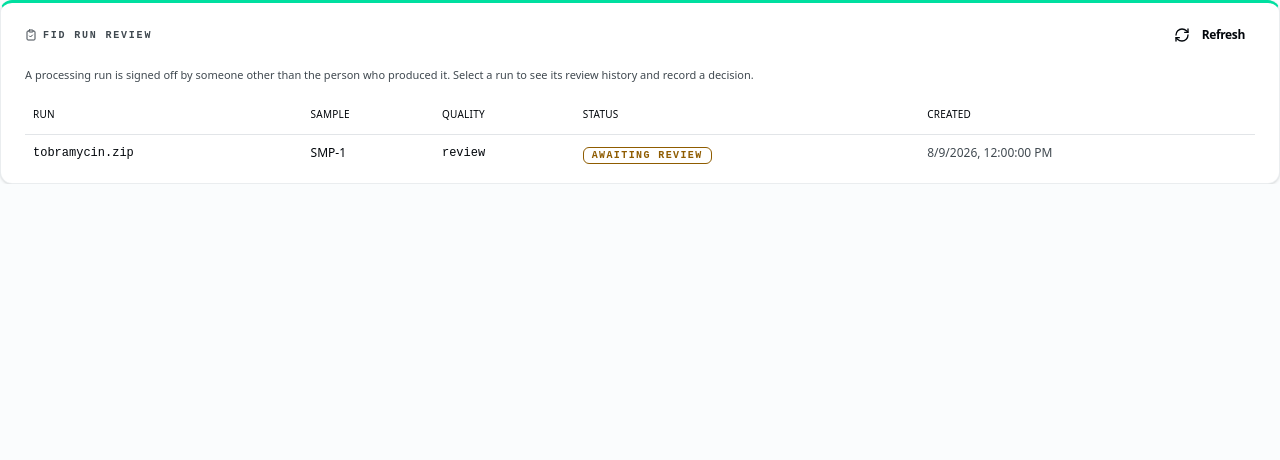
it: FID run review › keeps a genuine failure in the error slot
Step 1. Click the row with test id "fid-run-row-7" → (640, 152), box [25,134,1255,171]
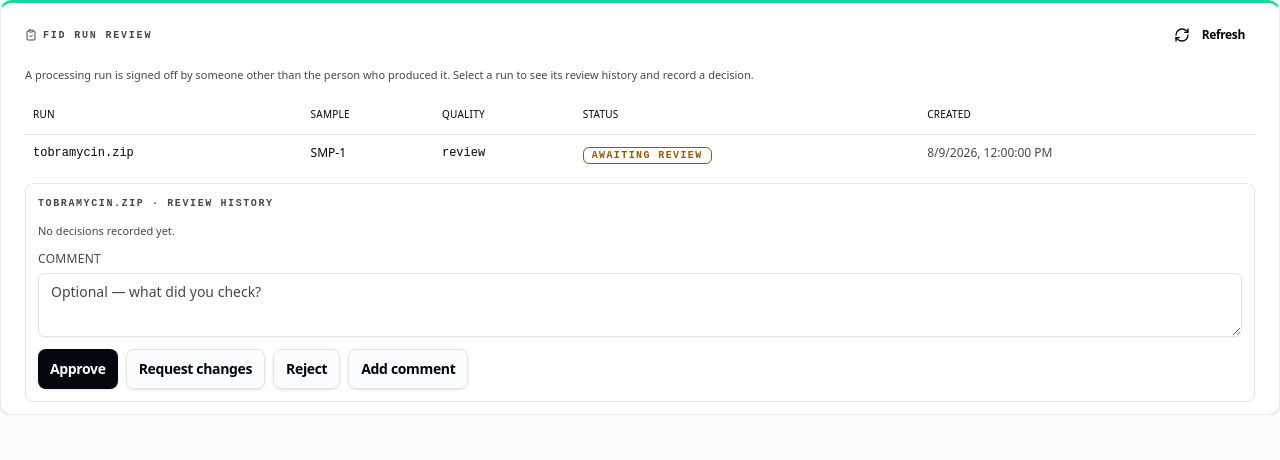
expect the text "No decisions recorded yet." is shown: met, box [38,223,175,238]
Step 2. Click the button with test id "fid-review-action-reject" → (307, 369), box [273,349,340,389]
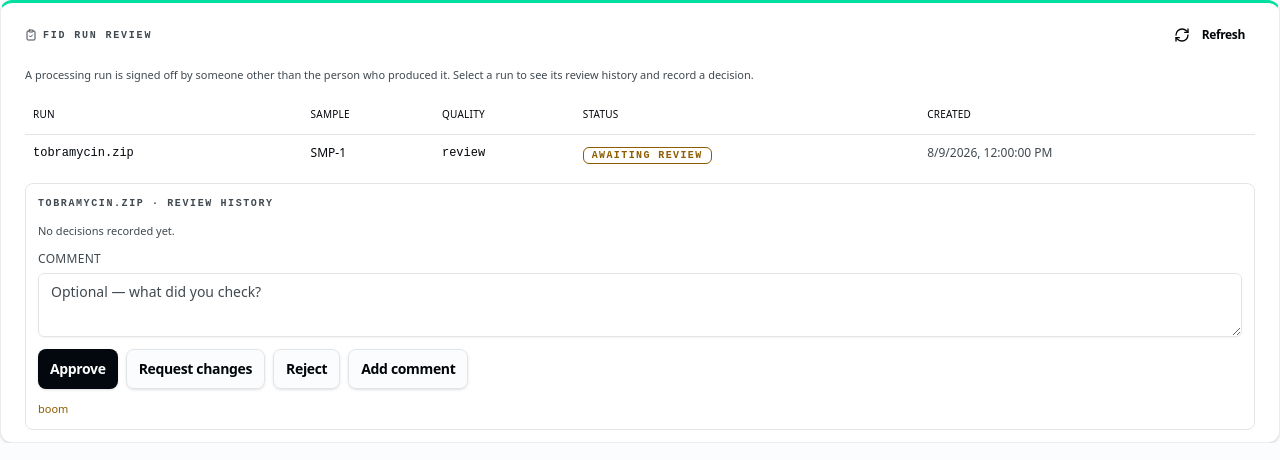
expect the text "boom" is shown: met, box [38,401,68,416]
